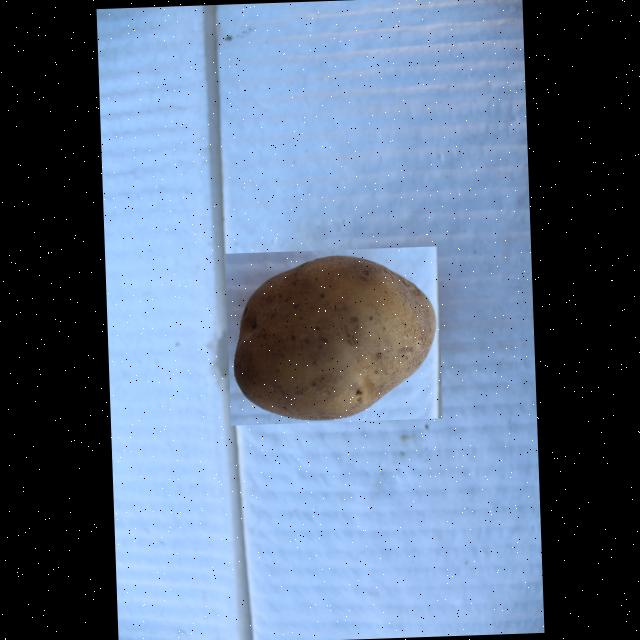Diseased-fungal potato: (225, 245, 442, 424)
